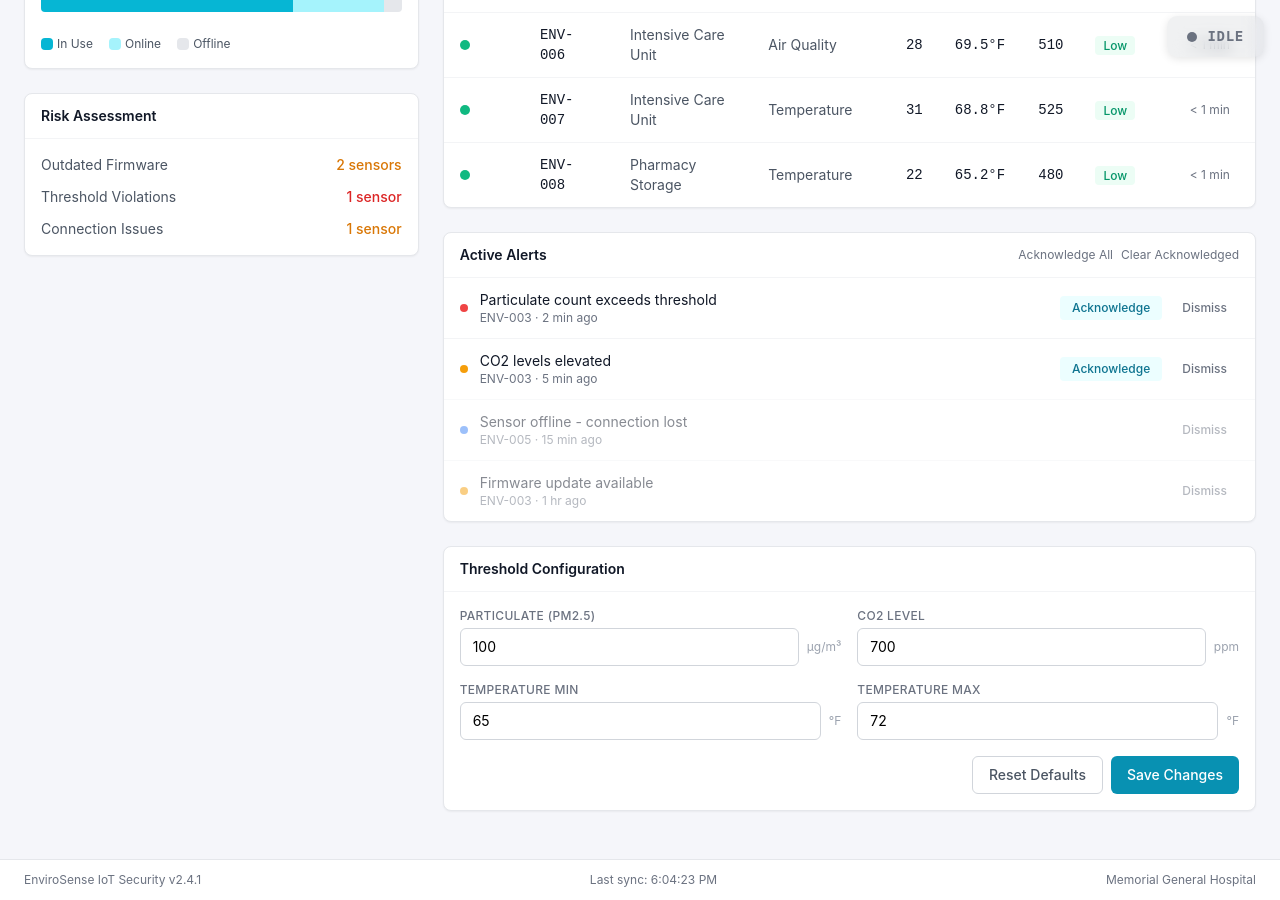
Environmental Monitoring Dashboard › Threshold Configuration › reset button restores default threshold values
The width and height of the screenshot is (1280, 900).
(page scrolled)
Note: Change values
Replace the text in the number field with test id "threshold-particulate" with "150" at x=629, y=647, box [460,628,799,666]
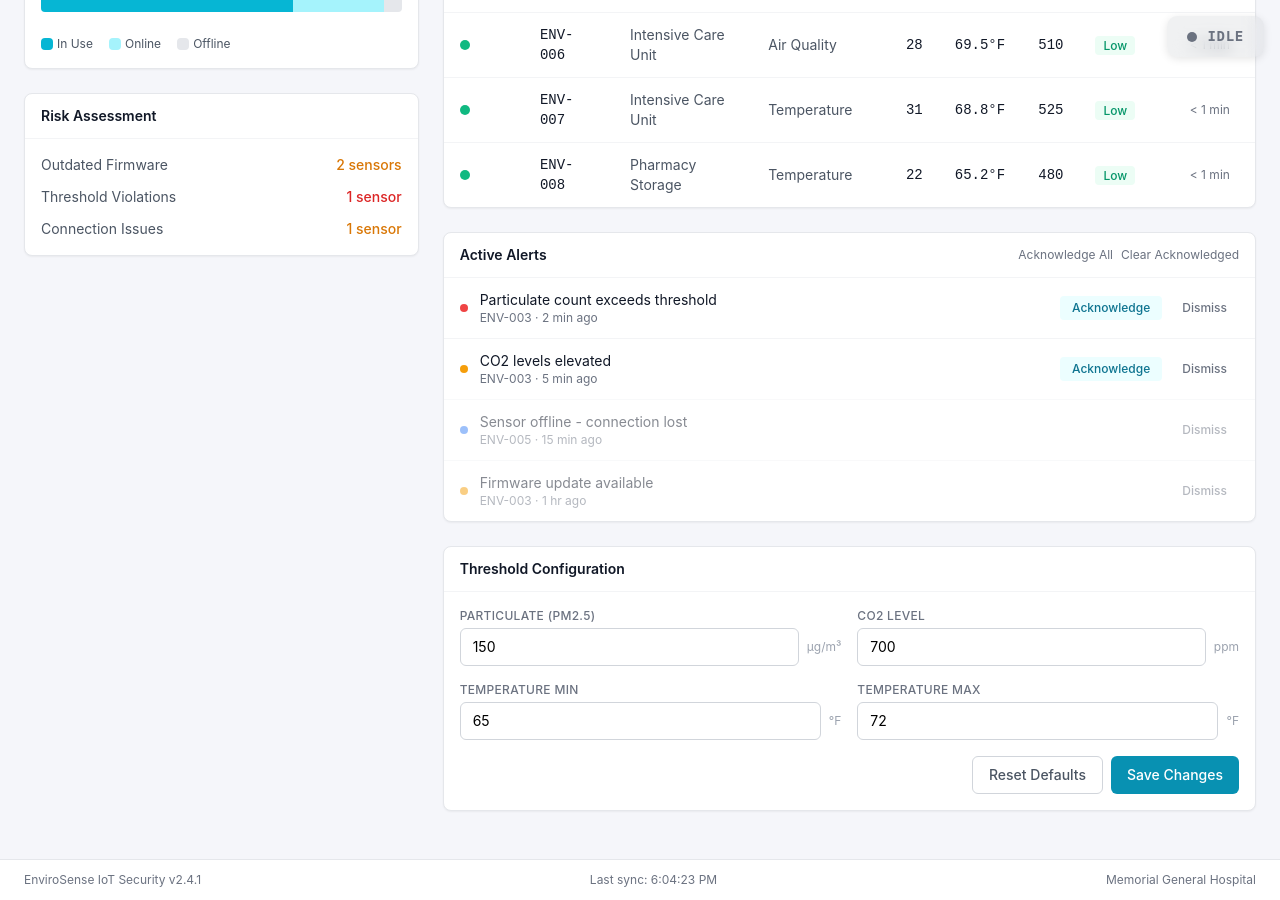
Replace the text in the number field with test id "threshold-co2" with "900" at x=1032, y=647, box [857,628,1206,666]
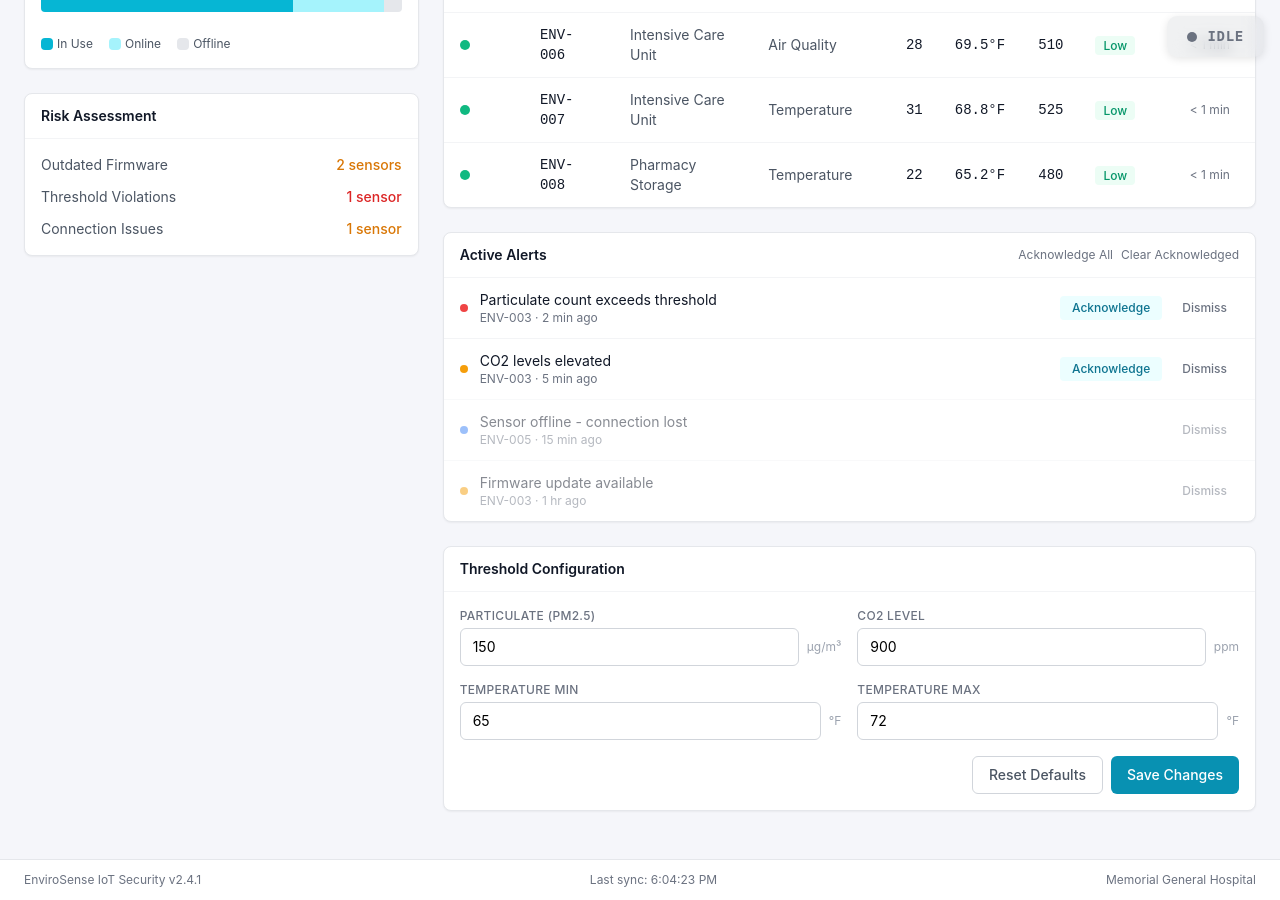
Click the button with test id "reset-thresholds-btn".
click(1037, 775)  # box [972,756,1103,794]
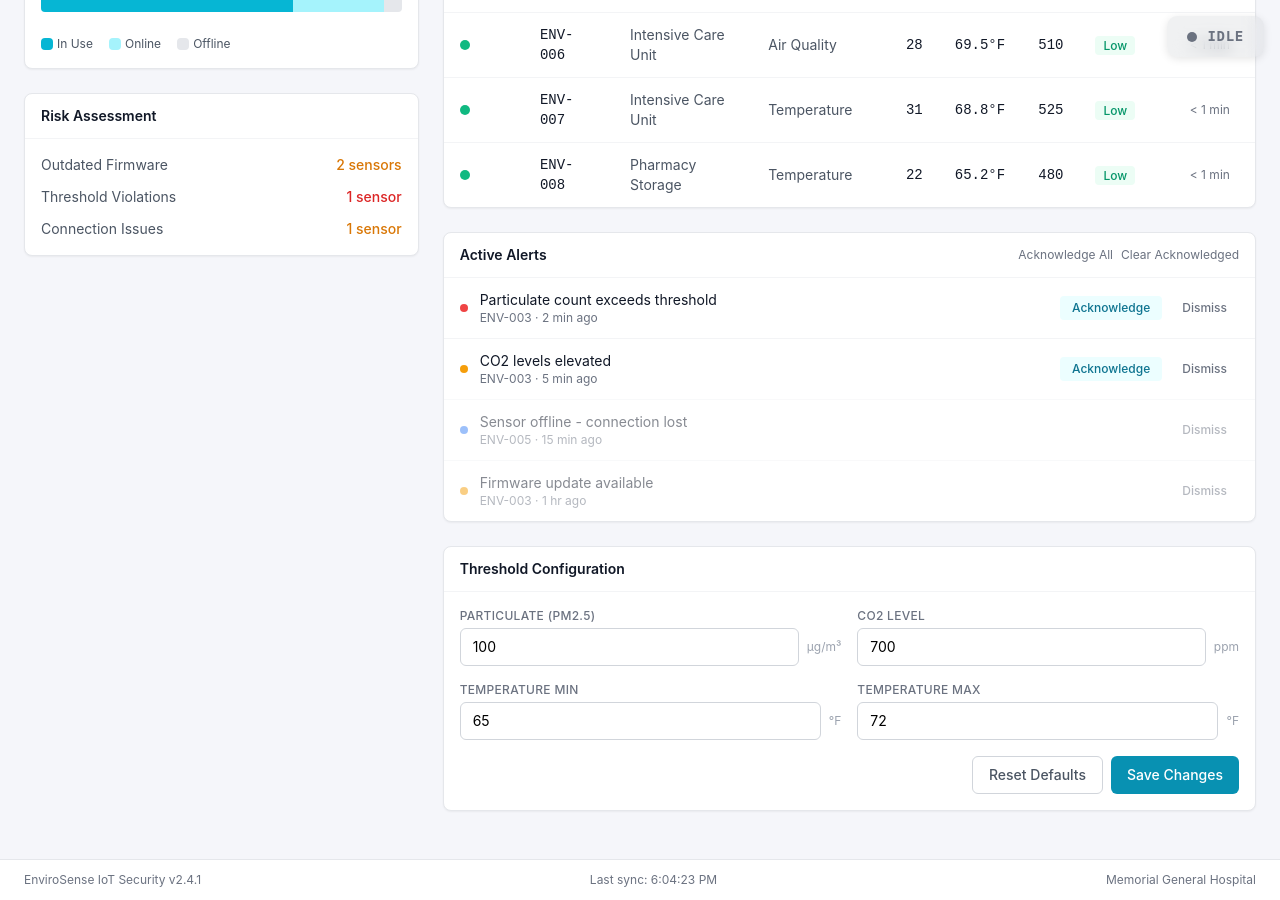
Expected: the number field with test id "threshold-temp-min" holds "65", [460,702,821,740]
Now the number field with test id "threshold-particulate" holds "100", box [460,628,799,666]
Now the number field with test id "threshold-co2" holds "700", box [857,628,1206,666]
